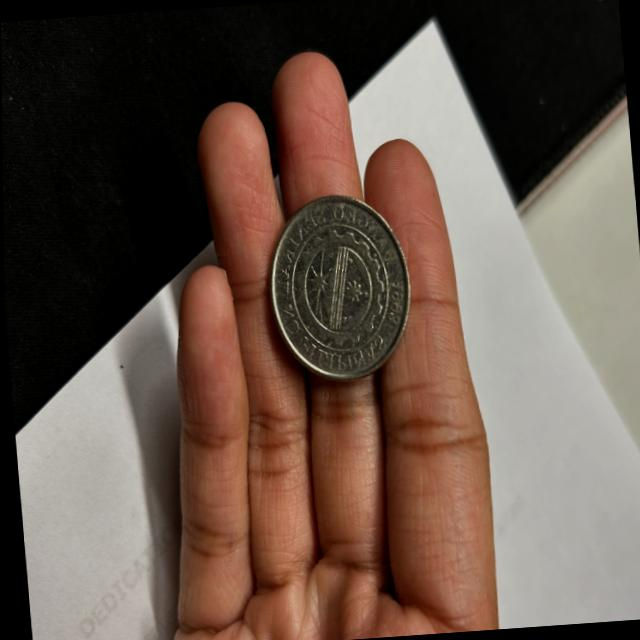1_Old_Back: (275, 213, 394, 359)
